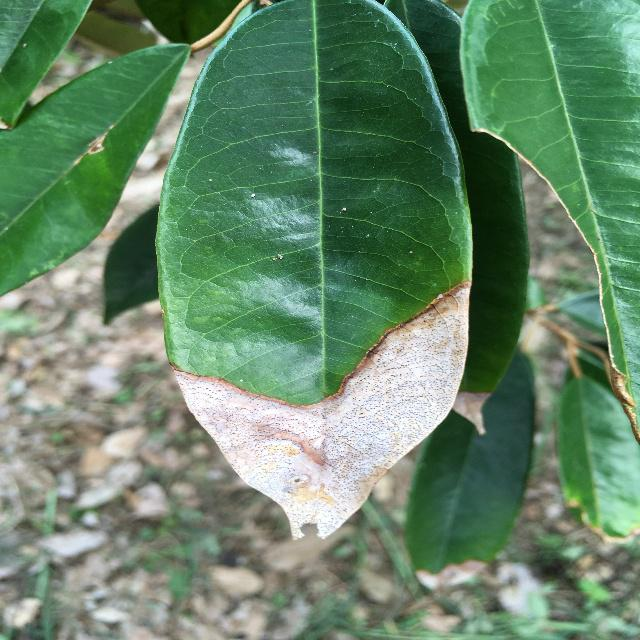Leaf Blight: (147, 0, 479, 556)
